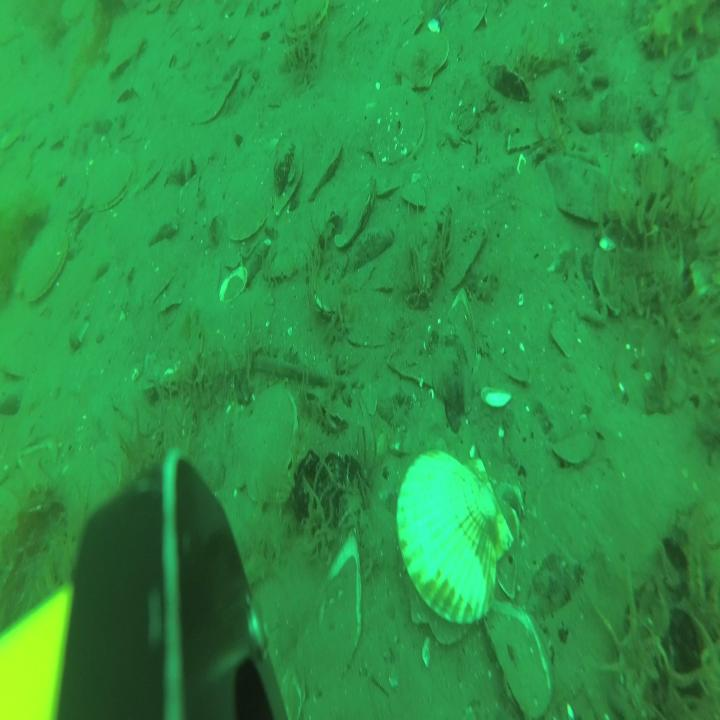scallop: (397, 441, 515, 640), (228, 383, 298, 511), (362, 83, 427, 166), (226, 161, 276, 245), (16, 230, 70, 302), (396, 25, 449, 94), (86, 150, 134, 217), (335, 180, 374, 249), (306, 135, 343, 199), (554, 430, 598, 472), (284, 1, 330, 40), (377, 166, 402, 200), (402, 178, 428, 207)
